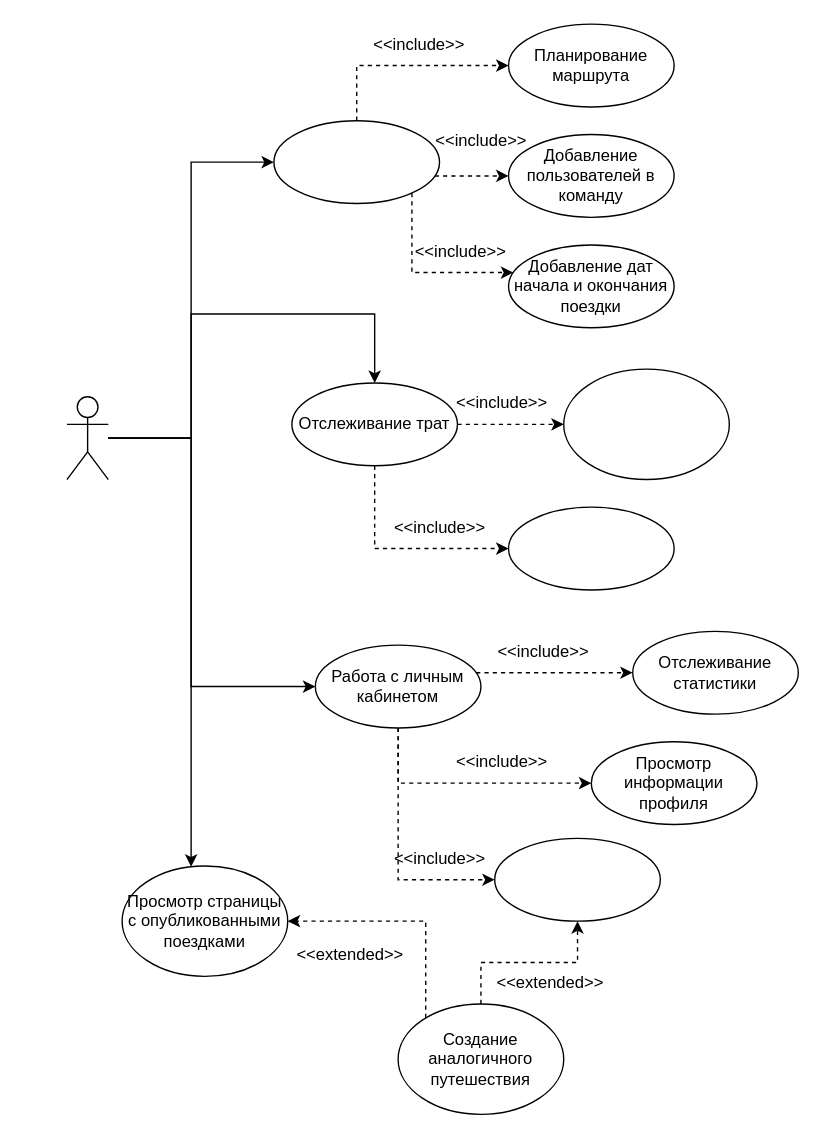
Image size: 822x1139. Some labels were removed from this diagram. Each missing label, with the centre of its shape:
"Авторизованный пользователь" belongs at point 87,437.
"Внесение затраты на посещаемое мероприятие" belongs at point 645,424.
"Отметить членов команды" belongs at point 590,548.
"Просмотр истории путешествий" belongs at point 576,879.
"Создание путешествия" belongs at point 356,161.
